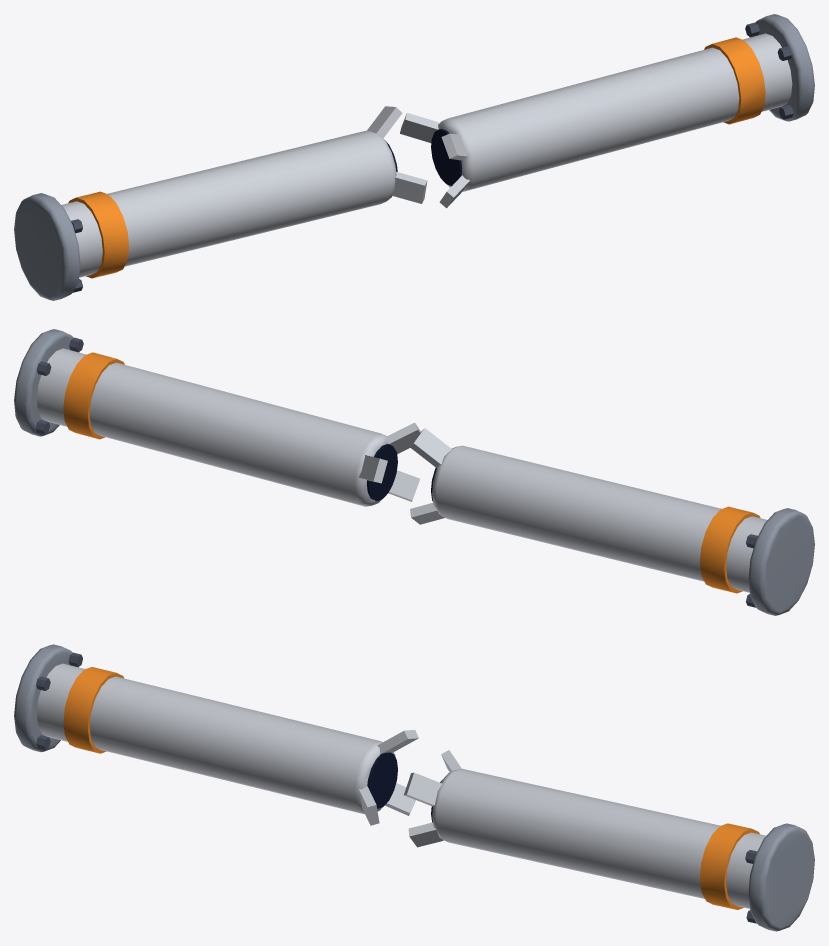
Rendered from Fx_BrokenPipe.fbx.
3 views of the same model, one above another, from view 1: azimuth 30°, elevation 25°; view 2: azimuth 150°, elevation 25°; view 3: azimuth 330°, elevation 25° (orthographic).
Parts seen in each view (by area): view 1: Fx_BrokenPipe.PipeL, Fx_BrokenPipe.Move_PipeR; view 2: Fx_BrokenPipe.PipeL, Fx_BrokenPipe.Move_PipeR; view 3: Fx_BrokenPipe.Move_PipeR, Fx_BrokenPipe.PipeL.
Boxes of the visible parts, x1,y1,x2,y2 form: Fx_BrokenPipe.PipeL: (14, 106, 427, 300); Fx_BrokenPipe.Move_PipeR: (400, 14, 814, 208); Fx_BrokenPipe.PipeL: (410, 428, 814, 615); Fx_BrokenPipe.Move_PipeR: (14, 329, 420, 506); Fx_BrokenPipe.Move_PipeR: (404, 750, 814, 931); Fx_BrokenPipe.PipeL: (14, 644, 418, 825).
Size of the model in its own units: 1.84 by 0.2345 by 0.2369.
1 material, 1 textured.
